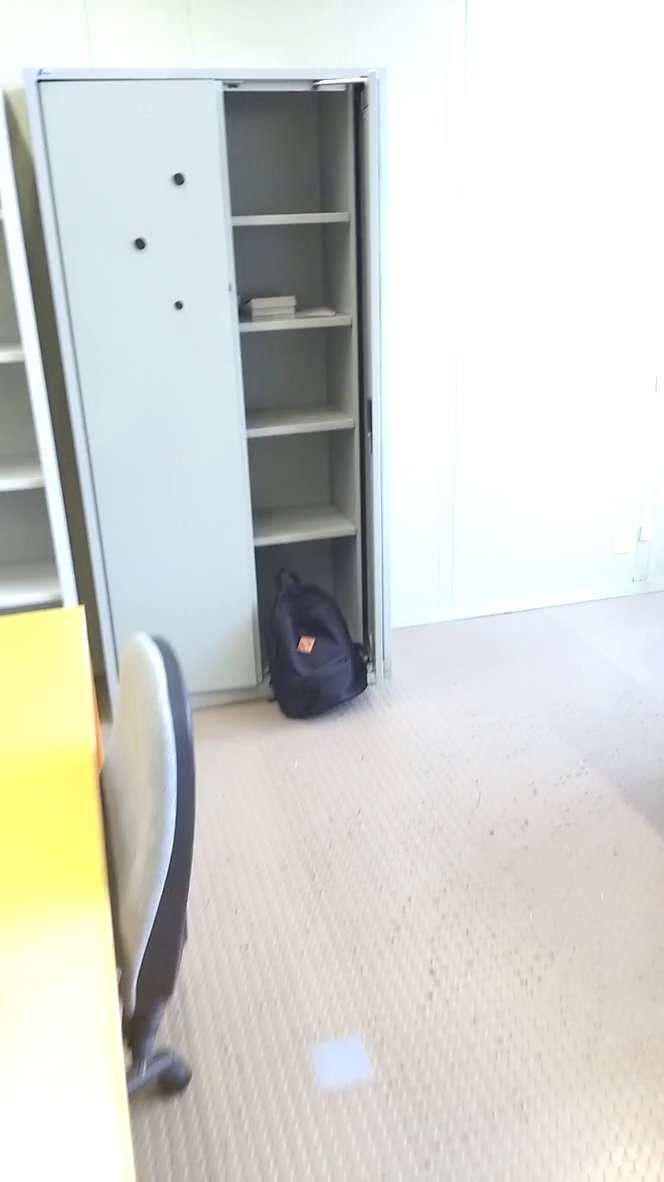bag: (259, 558, 375, 729)
chair: (69, 623, 230, 1084)
